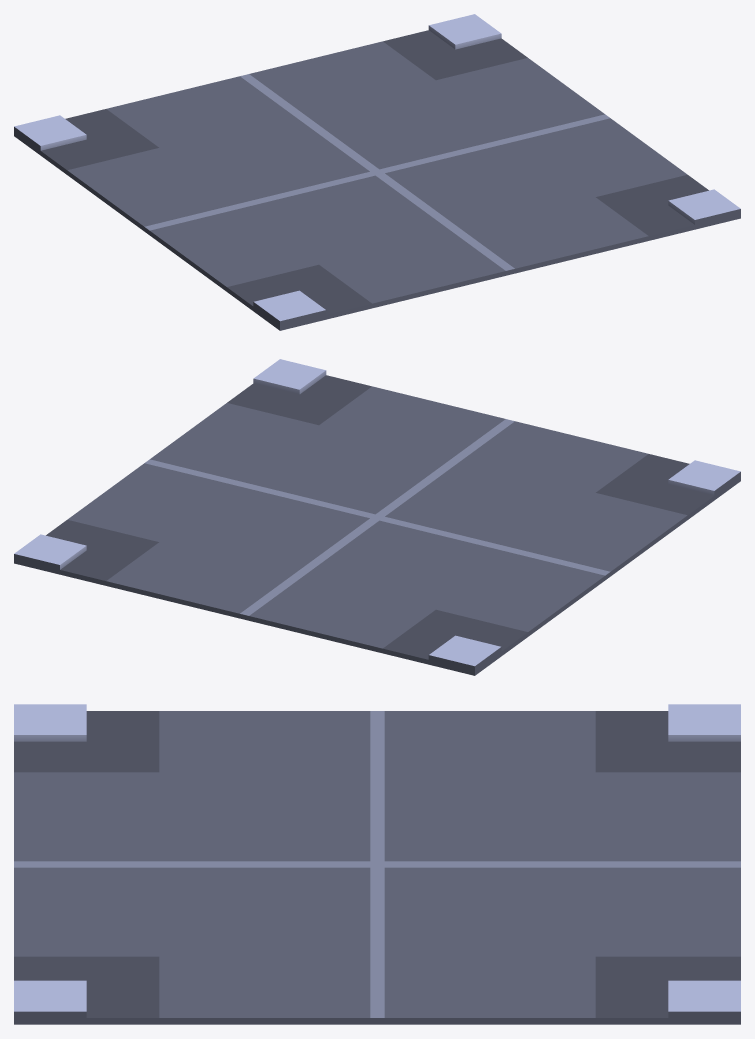
The model's file is road-crossroad-line.glb.
3 views of the same model, one above another, from view 1: azimuth 30°, elevation 25°; view 2: azimuth 150°, elevation 25°; view 3: azimuth 270°, elevation 25° (orthographic). The views are drawn at different scales.
Parts seen in each view (by area): view 1: road-crossroad-line; view 2: road-crossroad-line; view 3: road-crossroad-line.
Part boxes in pixels (x1,y1,x2,y2): road-crossroad-line: (14, 14, 740, 330); road-crossroad-line: (14, 359, 740, 675); road-crossroad-line: (14, 704, 740, 1024).
Size of the model in its own units: 1 by 0.02 by 1.
Materials: 1 (1 with a texture image).
